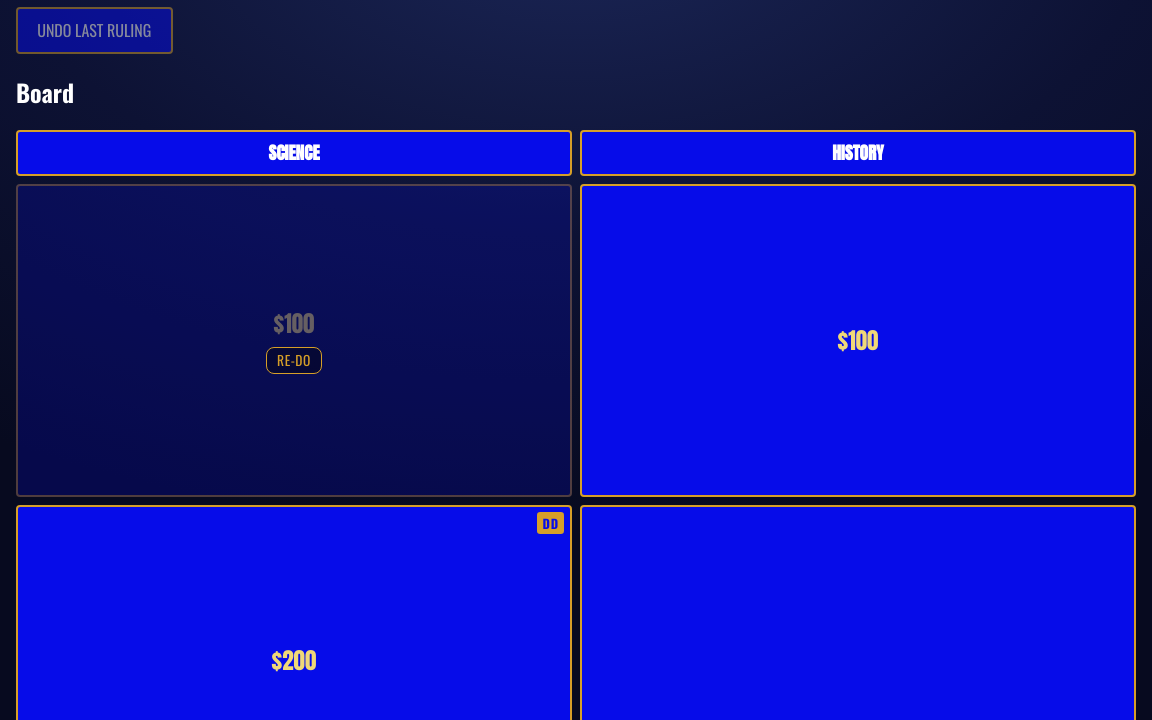
Test case: HostInProgress in-game removal and re-do › does not re-do a clue when the re-do is cancelled
The width and height of the screenshot is (1152, 720).
(page scrolled)
Click the button with test id "redo-clue-cl1". click: (294, 360)
box: [266,347,322,374]
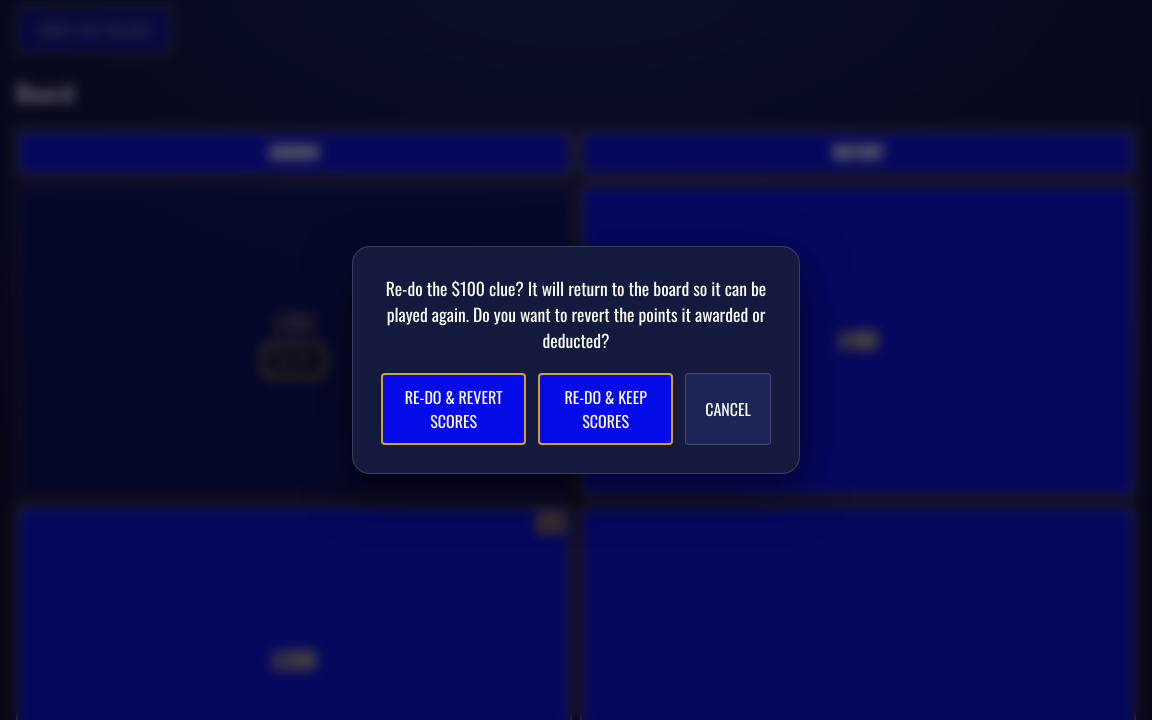
Click the button with test id "cancel-reopen-button". click: (728, 409)
box: [685,373,771,445]
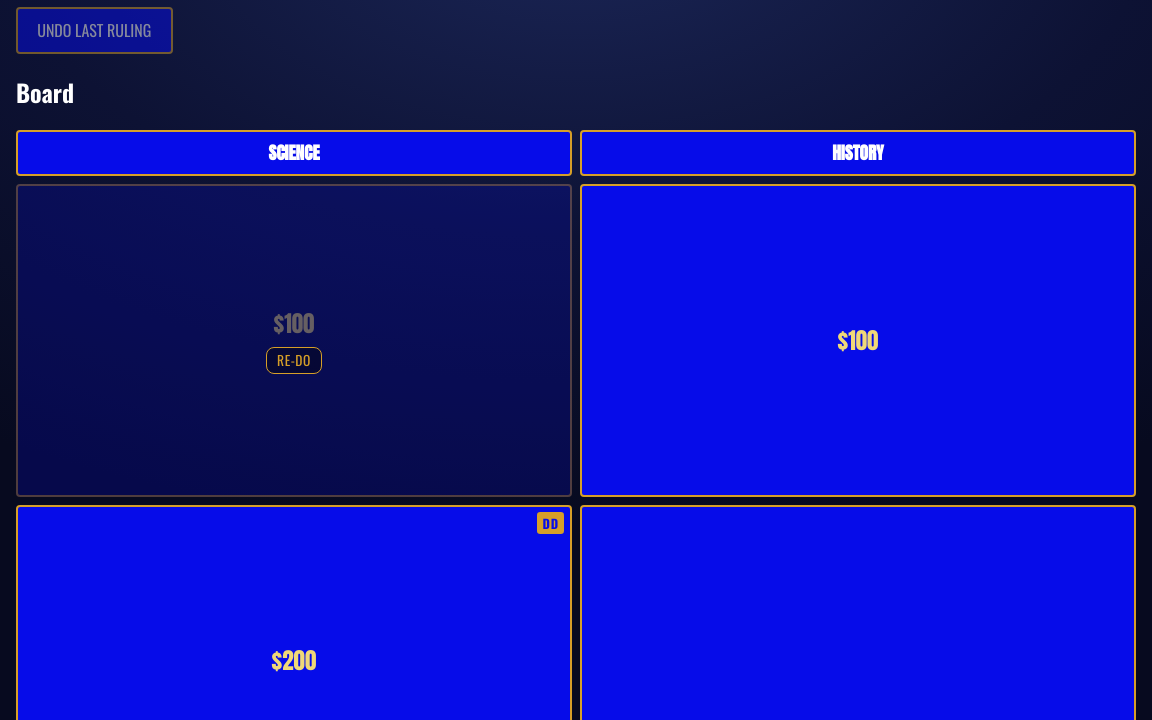
Expected: the button with test id "confirm-reopen-revert-button" is gone
